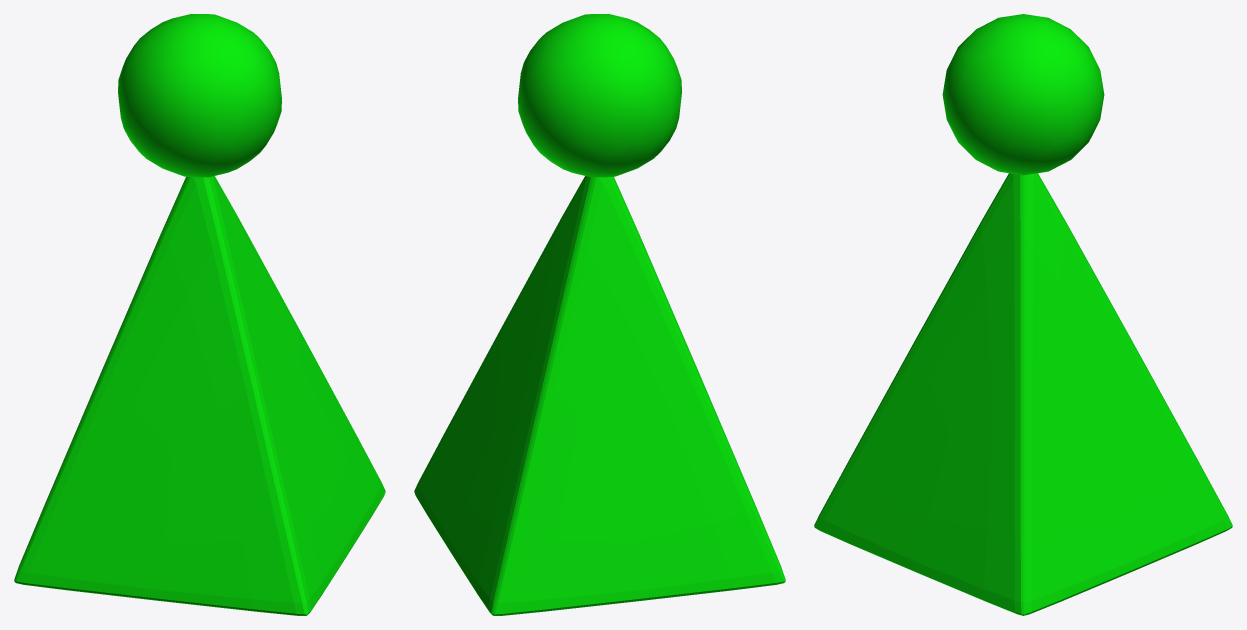
The model's file is player2.glb.
The picture shows the model from 3 angles, left to right: view 1: azimuth 30°, elevation 25°; view 2: azimuth 150°, elevation 25°; view 3: azimuth 270°, elevation 25°; orthographic projection. The views are drawn at different scales.
Parts seen in each view (by area): view 1: player2; view 2: player2; view 3: player2.
Boxes of the visible parts, bbox=[...] form: player2: bbox=[14, 14, 385, 615]; player2: bbox=[414, 14, 785, 615]; player2: bbox=[814, 14, 1232, 615].
Size of the model in its own units: 1.91 by 2.57 by 1.91.
